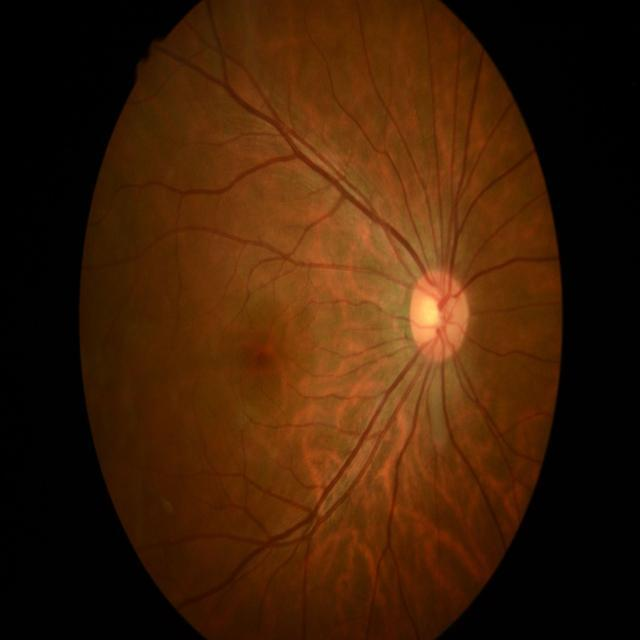cup: (420, 286, 444, 346)
disk: (410, 270, 470, 362)
